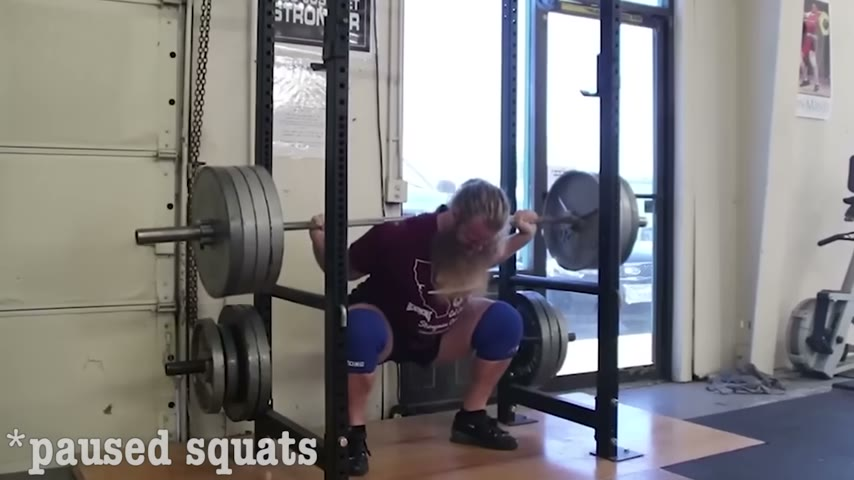barbell_plate_side: (130, 161, 217, 300)
